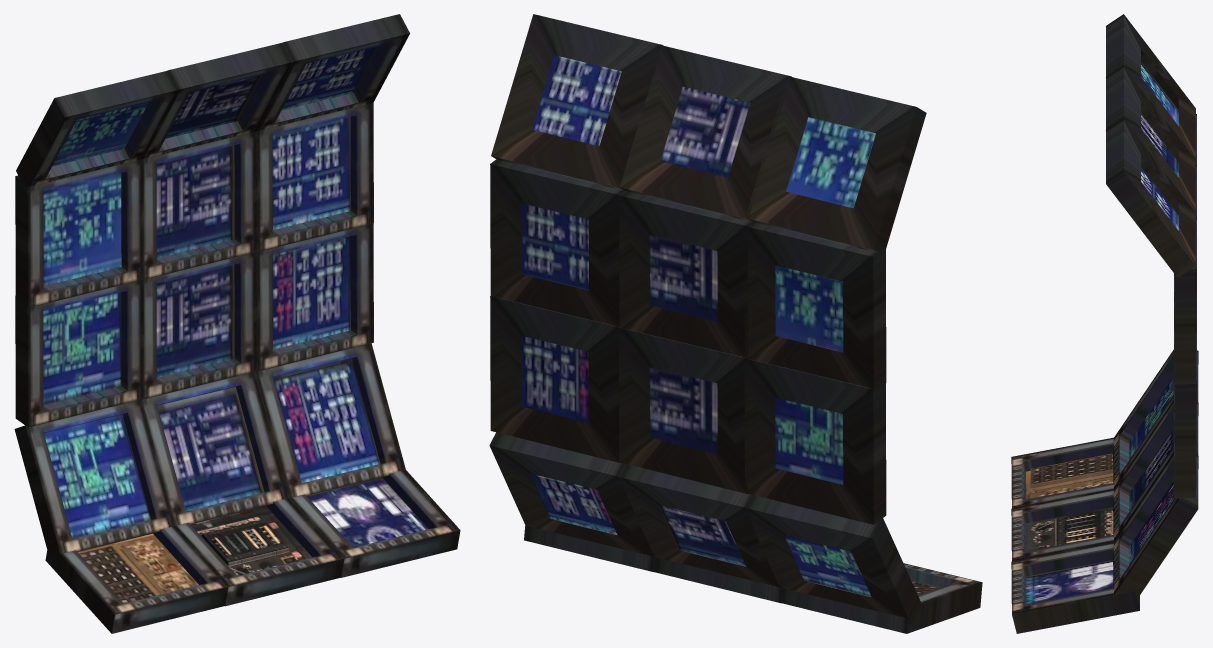
File: ctrlpanel.fbx
The picture shows the model from 3 angles, left to right: view 1: azimuth 30°, elevation 25°; view 2: azimuth 150°, elevation 25°; view 3: azimuth 270°, elevation 25°; orthographic projection. The views are drawn at different scales.
Parts seen in each view (by area): view 1: Plane.011, Plane.009, Plane.010, Plane.005, Plane, Plane.003, Plane.004, Plane.002, Plane.001, Plane.012, Plane.006, Plane.014 (+3 smaller); view 2: Plane.006, Plane.008, Plane.007, Plane.005, Plane, Plane.003, Plane.004, Plane.002, Plane.001, Plane.011, Plane.009, Plane.010 (+3 smaller); view 3: Plane.014, Plane.008, Plane.009, Plane.013, Plane.012, Plane.006, Plane.007, Plane.010, Plane.011, Plane.002, Plane.003.
Boxes of the visible parts, bbox=[...] form: Plane.011: bbox=[14, 400, 175, 559]; Plane.009: bbox=[255, 343, 405, 497]; Plane.010: bbox=[139, 371, 289, 525]; Plane.005: bbox=[15, 159, 144, 307]; Plane: bbox=[15, 280, 144, 427]; Plane.003: bbox=[257, 102, 373, 251]; Plane.004: bbox=[141, 131, 257, 280]; Plane.002: bbox=[257, 223, 373, 371]; Plane.001: bbox=[141, 252, 257, 399]; Plane.012: bbox=[45, 525, 230, 633]; Plane.006: bbox=[16, 70, 179, 186]; Plane.014: bbox=[290, 470, 460, 577]; Plane.006: bbox=[746, 76, 926, 252]; Plane.008: bbox=[491, 14, 663, 190]; Plane.007: bbox=[620, 45, 791, 221]; Plane.005: bbox=[744, 222, 886, 392]; Plane: bbox=[744, 358, 886, 524]; Plane.003: bbox=[490, 159, 624, 326]; Plane.004: bbox=[619, 191, 753, 357]; Plane.002: bbox=[490, 296, 619, 462]; Plane.001: bbox=[619, 327, 748, 494]; Plane.011: bbox=[746, 495, 921, 625]; Plane.009: bbox=[489, 432, 654, 556]; Plane.010: bbox=[618, 464, 782, 587]; Plane.014: bbox=[1011, 542, 1139, 633]; Plane.008: bbox=[1106, 119, 1195, 277]; Plane.009: bbox=[1113, 454, 1198, 598]; Plane.013: bbox=[1011, 489, 1113, 561]; Plane.012: bbox=[1011, 437, 1113, 509]; Plane.006: bbox=[1106, 14, 1195, 161]; Plane.007: bbox=[1106, 66, 1195, 214]; Plane.010: bbox=[1113, 401, 1198, 541]; Plane.011: bbox=[1113, 349, 1198, 490]; Plane.002: bbox=[1174, 330, 1196, 498]; Plane.003: bbox=[1174, 218, 1196, 386].
Size of the model in its own units: 537 by 732 by 268.
